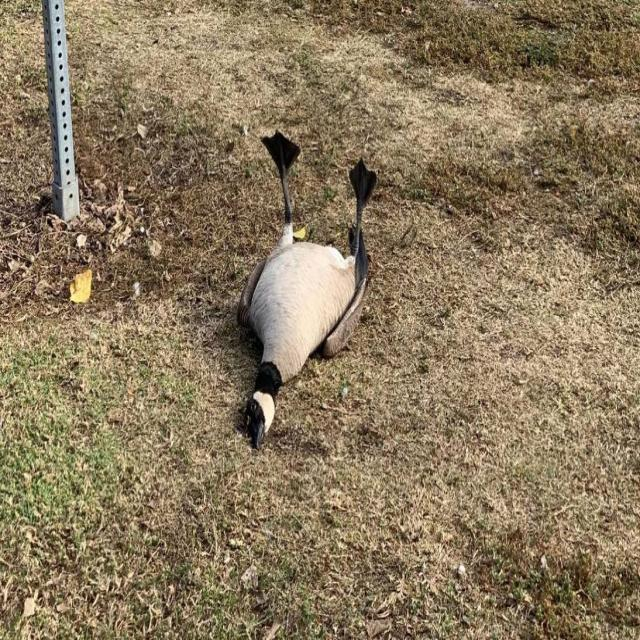Goose: (233, 124, 375, 468)
